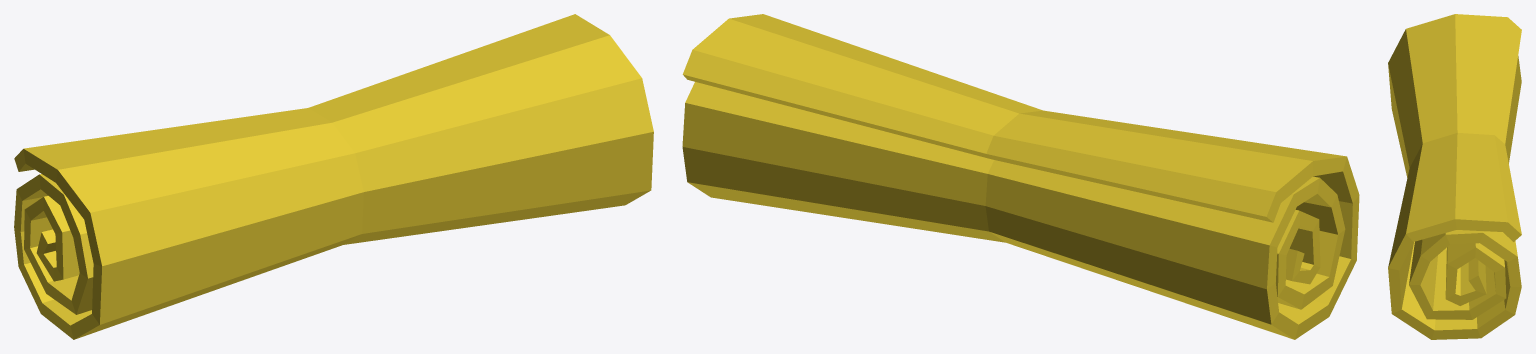
File: Zwój.fbx
3 views of the same model, side by side, from view 1: azimuth 30°, elevation 25°; view 2: azimuth 150°, elevation 25°; view 3: azimuth 270°, elevation 25° (orthographic). The views are drawn at different scales.
Visible parts, largest first — view 1: Cube; view 2: Cube; view 3: Cube.
Boxes of the visible parts, left/top/right/bottom form: Cube: left=14, top=14, right=653, bottom=339; Cube: left=682, top=14, right=1359, bottom=339; Cube: left=1388, top=14, right=1521, bottom=339.
Bounding box in the file's own units: 3044 × 833 × 837.
